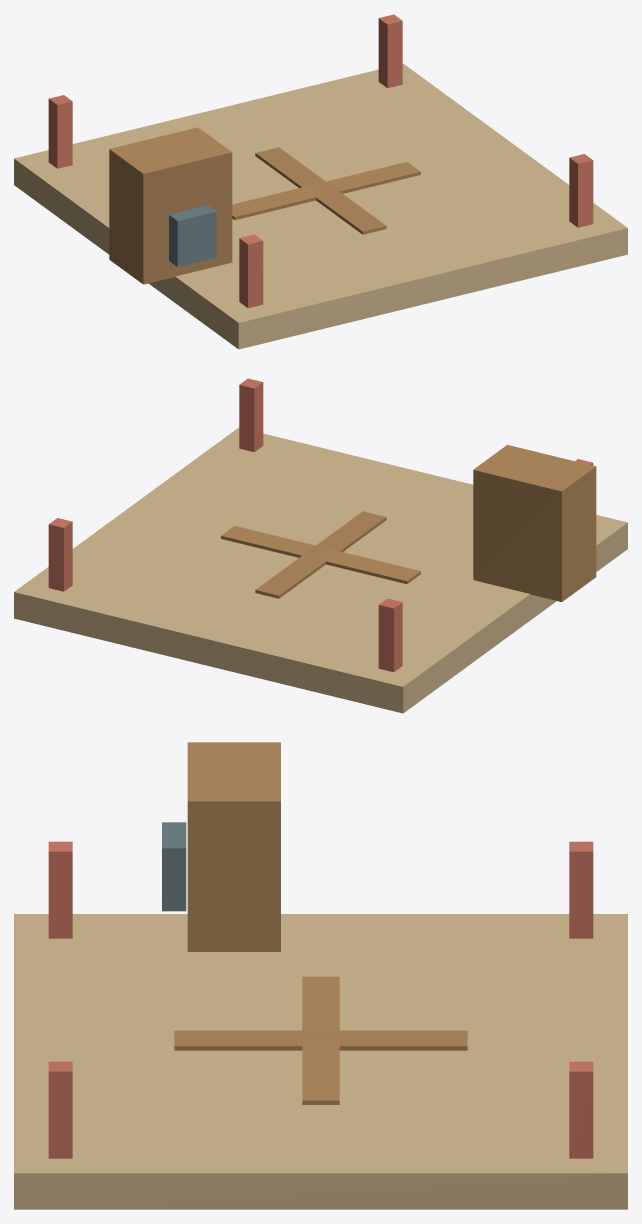
Rendered from Drone-Delivery-Pad.glb.
3 views of the same model, one above another, from view 1: azimuth 30°, elevation 25°; view 2: azimuth 150°, elevation 25°; view 3: azimuth 270°, elevation 25° (orthographic). The views are drawn at different scales.
Visible parts, largest first — view 1: drone-delivery-pad-static-drone-pad-concrete, drone-delivery-pad-static-drone-pad-transfer-locker, drone-delivery-pad-static-drone-pad-beacon-orange, drone-delivery-pad-static-drone-pad-landing-mark, drone-delivery-pad-static-drone-pad-service-metal; view 2: drone-delivery-pad-static-drone-pad-concrete, drone-delivery-pad-static-drone-pad-transfer-locker, drone-delivery-pad-static-drone-pad-landing-mark, drone-delivery-pad-static-drone-pad-beacon-orange; view 3: drone-delivery-pad-static-drone-pad-concrete, drone-delivery-pad-static-drone-pad-transfer-locker, drone-delivery-pad-static-drone-pad-landing-mark, drone-delivery-pad-static-drone-pad-beacon-orange, drone-delivery-pad-static-drone-pad-service-metal.
Boxes of the visible parts, box(x1,y1,x2,y2) form: drone-delivery-pad-static-drone-pad-concrete: box(14, 63, 627, 349); drone-delivery-pad-static-drone-pad-transfer-locker: box(109, 127, 232, 284); drone-delivery-pad-static-drone-pad-beacon-orange: box(48, 14, 593, 308); drone-delivery-pad-static-drone-pad-landing-mark: box(232, 147, 420, 234); drone-delivery-pad-static-drone-pad-service-metal: box(169, 205, 216, 266); drone-delivery-pad-static-drone-pad-concrete: box(14, 427, 627, 713); drone-delivery-pad-static-drone-pad-transfer-locker: box(473, 445, 596, 601); drone-delivery-pad-static-drone-pad-landing-mark: box(221, 511, 420, 598); drone-delivery-pad-static-drone-pad-beacon-orange: box(48, 378, 593, 672); drone-delivery-pad-static-drone-pad-concrete: box(14, 914, 627, 1209); drone-delivery-pad-static-drone-pad-transfer-locker: box(187, 742, 280, 951); drone-delivery-pad-static-drone-pad-landing-mark: box(174, 976, 467, 1104); drone-delivery-pad-static-drone-pad-beacon-orange: box(48, 841, 593, 1158); drone-delivery-pad-static-drone-pad-service-metal: box(162, 822, 186, 911).
Bounding box in the file's own units: 4.97 × 1.54 × 4.6.
